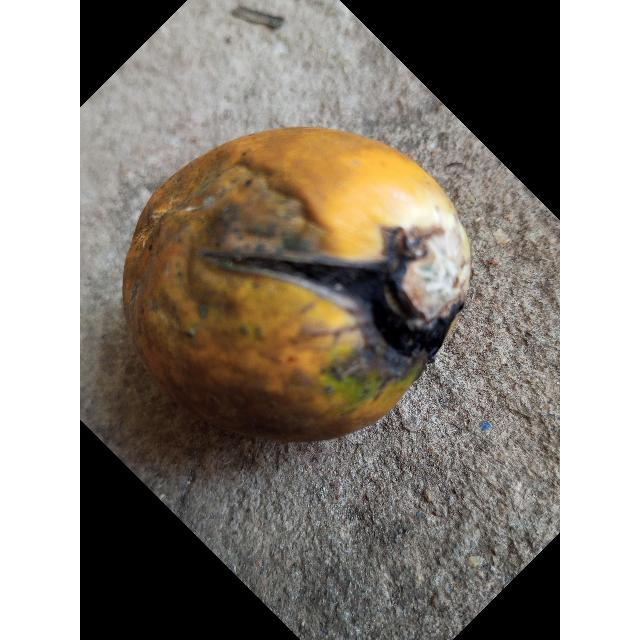damaged: (121, 126, 472, 445)
